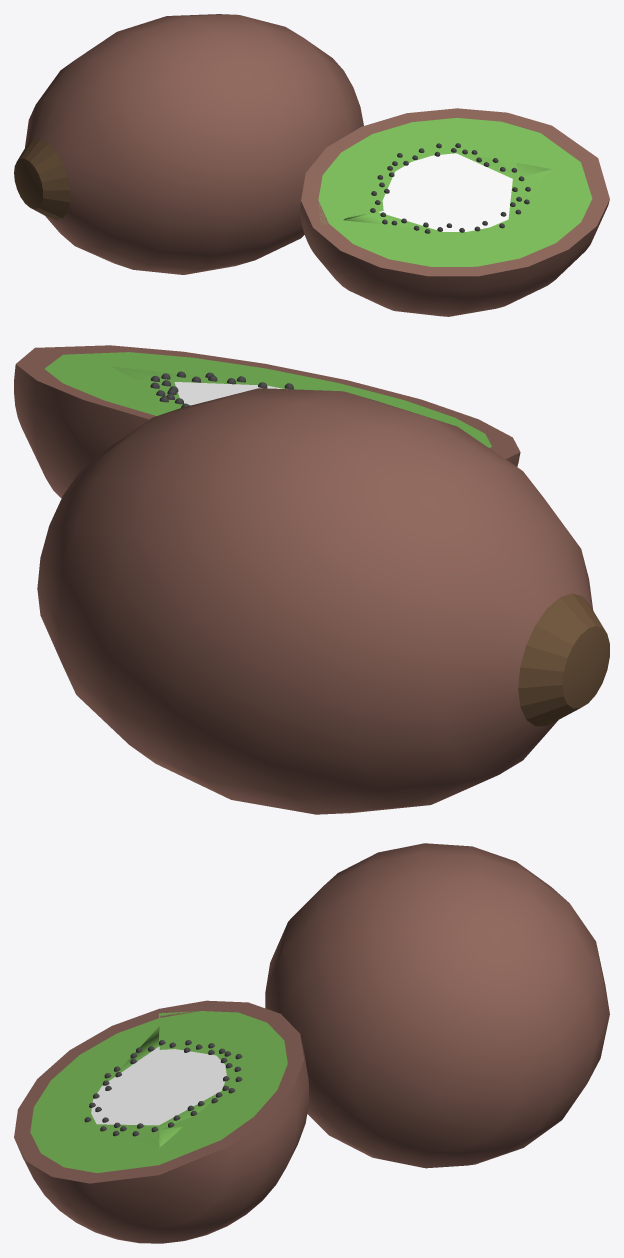
File: 2592c003-dfab-4cb8-8cbf-a400b55d3508.glb
The picture shows the model from 3 angles, top to bottom: view 1: azimuth 30°, elevation 25°; view 2: azimuth 150°, elevation 25°; view 3: azimuth 270°, elevation 25°; orthographic projection. The views are drawn at different scales.
Visible parts, largest first — view 1: Sphere001, Sphere002; view 2: Sphere001, Sphere002; view 3: Sphere001, Sphere002.
Boxes of the visible parts, x1,y1,x2,y2 form: Sphere001: (14,14,363,274); Sphere002: (300,108,609,316); Sphere001: (37,388,609,814); Sphere002: (14,345,520,498); Sphere001: (265,843,609,1168); Sphere002: (14,1000,309,1243).
Size of the model in its own units: 40.18 by 19.01 by 37.83.
